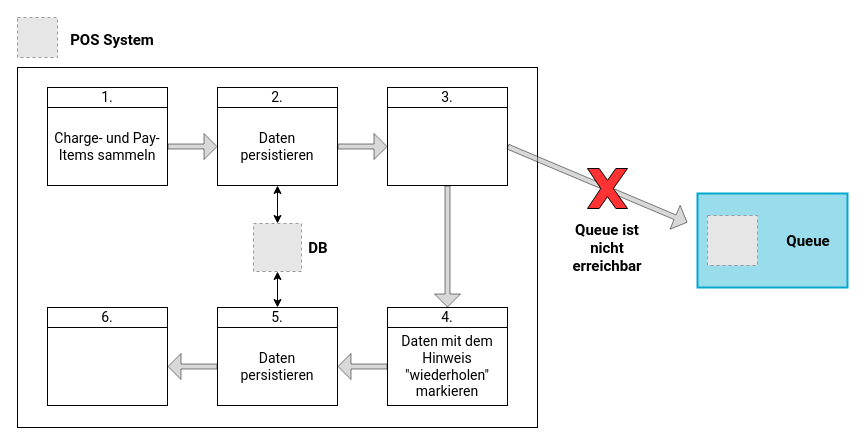
Image size: 866x445. Some labels were removed from this diagram. Grey dashed boxes stand in for pictures. Each missing label, with the centre of its shape:
Beleg mit Hinweis "Sicherheits-mechanismus ausgefallen" drucken: (107,366)
sign - Request erstellen und senden: (447,146)
